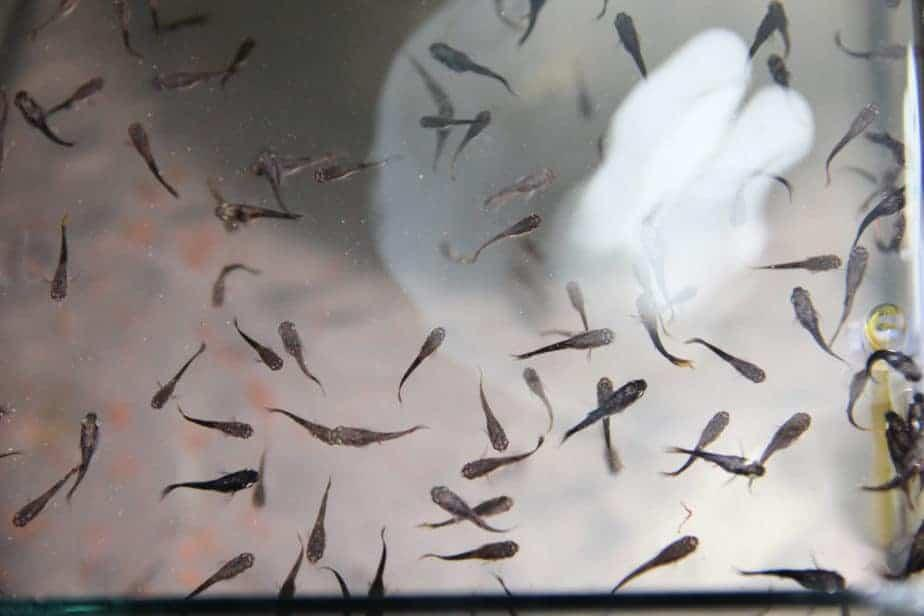fish: (590, 520, 735, 616), (415, 18, 538, 110), (13, 210, 105, 320), (600, 0, 685, 115), (740, 395, 832, 500), (802, 88, 890, 195), (455, 208, 580, 275), (368, 313, 462, 402), (115, 115, 192, 222), (625, 282, 702, 383), (140, 330, 220, 420), (288, 475, 360, 575), (442, 438, 558, 498)
